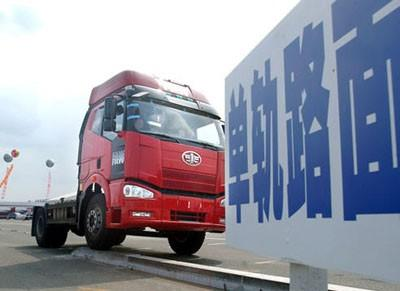truck: (24, 68, 226, 257)
